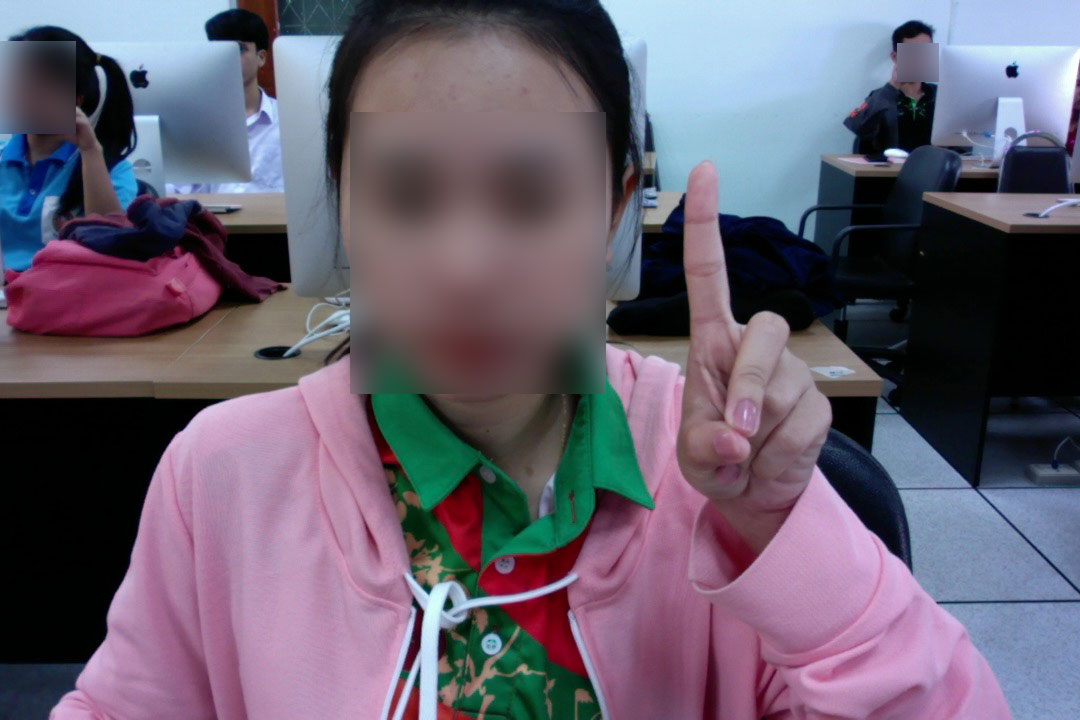dor: (665, 157, 847, 543)
